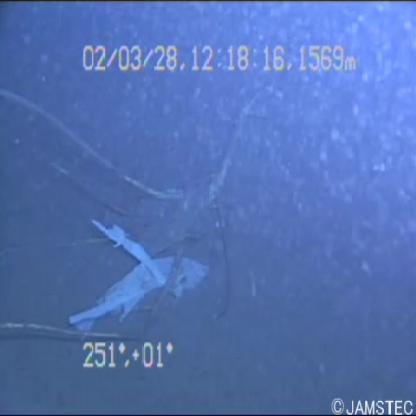Rác: (54, 174, 232, 341)
